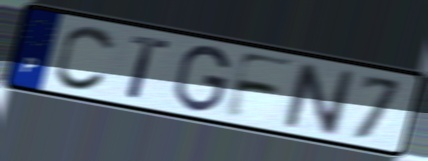7: (354, 73, 406, 144)
C: (53, 23, 118, 93)
F: (220, 49, 299, 122)
G: (172, 44, 233, 114)
N: (281, 59, 357, 139)
T: (125, 32, 172, 102)
